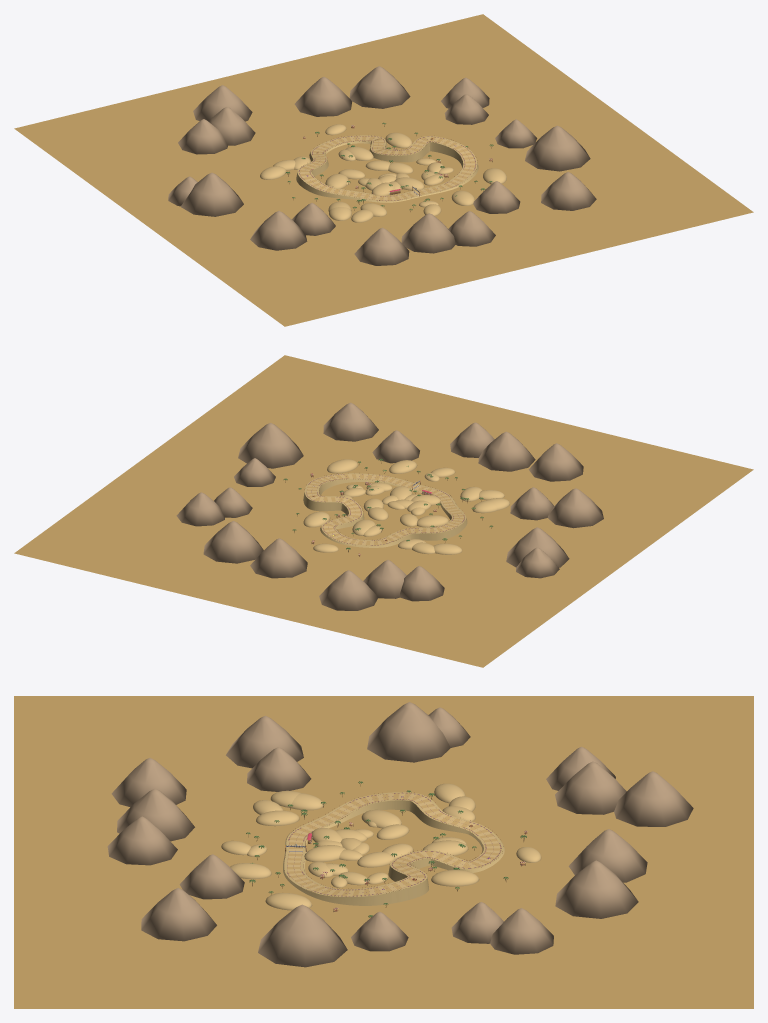
Rendered from carreras_desierto.glb.
The picture shows the model from 3 angles, top to bottom: view 1: azimuth 30°, elevation 25°; view 2: azimuth 150°, elevation 25°; view 3: azimuth 270°, elevation 25°; orthographic projection. The views are drawn at different scales.
Parts seen in each view (by area): view 1: desierto Tela | suelo desierto 99 99, desierto Laca | montana #b79b7c 99 99, desierto Tela | arena -1 -1, desierto Tela | arena 0 -1, desierto Tela | arena -1 0, desierto Tela | arena 0 0, desierto Tela | talud desierto 0 0; view 2: desierto Tela | suelo desierto 99 99, desierto Laca | montana #b79b7c 99 99, desierto Tela | arena -1 -1, desierto Tela | arena 0 -1, desierto Tela | arena -1 0, desierto Tela | arena 0 0, desierto Tela | talud desierto 0 0, desierto Tela | talud desierto -1 0; view 3: desierto Tela | suelo desierto 99 99, desierto Laca | montana #b79b7c 99 99, desierto Tela | arena -1 -1, desierto Tela | arena 0 -1, desierto Tela | arena -1 0, desierto Tela | arena 0 0, desierto Tela | talud desierto 0 0, desierto Tela | talud desierto -1 0, desierto Tela | talud desierto 0 -1, desierto Tela | camino claro desierto 0 0, desierto Tela | camino desierto 0 0, desierto Tela | camino desierto -1 0 (+6 smaller).
Boxes of the visible parts, <box> form: desierto Tela | suelo desierto 99 99: <box>14,14,753,326</box>; desierto Laca | montana #b79b7c 99 99: <box>168,66,596,265</box>; desierto Tela | arena -1 -1: <box>325,173,441,222</box>; desierto Tela | arena 0 -1: <box>388,158,506,205</box>; desierto Tela | arena -1 0: <box>260,146,373,179</box>; desierto Tela | arena 0 0: <box>325,124,412,170</box>; desierto Tela | talud desierto 0 0: <box>348,139,447,162</box>; desierto Tela | suelo desierto 99 99: <box>14,355,753,667</box>; desierto Laca | montana #b79b7c 99 99: <box>176,402,603,610</box>; desierto Tela | arena -1 -1: <box>387,467,509,527</box>; desierto Tela | arena 0 -1: <box>327,459,417,511</box>; desierto Tela | arena -1 0: <box>352,514,462,554</box>; desierto Tela | arena 0 0: <box>303,507,388,552</box>; desierto Tela | talud desierto 0 0: <box>303,489,364,543</box>; desierto Tela | talud desierto -1 0: <box>340,525,462,547</box>; desierto Tela | suelo desierto 99 99: <box>14,696,753,1008</box>; desierto Laca | montana #b79b7c 99 99: <box>107,702,693,967</box>; desierto Tela | arena -1 -1: <box>221,790,401,856</box>; desierto Tela | arena 0 -1: <box>230,845,395,910</box>; desierto Tela | arena -1 0: <box>376,783,475,856</box>; desierto Tela | arena 0 0: <box>382,843,541,886</box>; desierto Tela | talud desierto 0 0: <box>383,851,504,904</box>; desierto Tela | talud desierto -1 0: <box>384,800,504,852</box>; desierto Tela | talud desierto 0 -1: <box>283,852,383,905</box>; desierto Tela | camino claro desierto 0 0: <box>382,850,499,892</box>; desierto Tela | camino desierto 0 0: <box>382,851,498,891</box>; desierto Tela | camino desierto -1 0: <box>383,793,500,850</box>.
Size of the model in its own units: 840 by 63.8 by 840.
